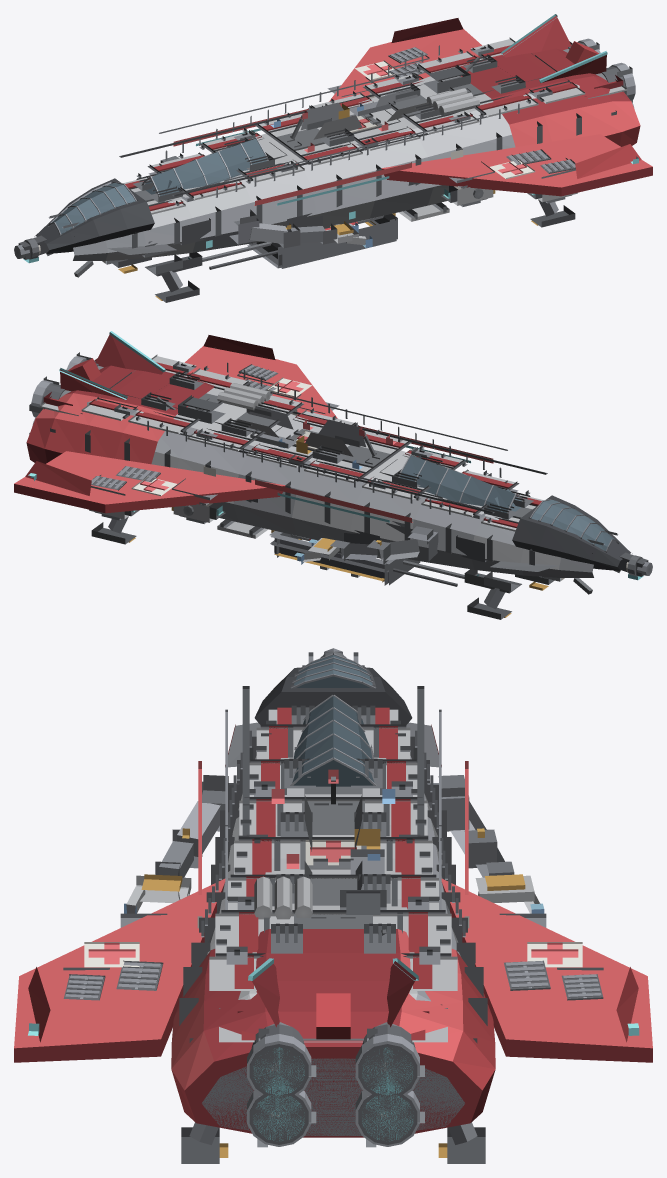
File: calico_evac.glb
3 renders of one model, top to bottom at view 1: azimuth 30°, elevation 25°; view 2: azimuth 150°, elevation 25°; view 3: azimuth 270°, elevation 25°, orthographic. The views are drawn at different scales.
Parts seen in each view (by area): view 1: hull_mid, greebles, hull_rear, wings_r, spine, hull_fwd, wings_l, decals, arms_r, bay, tail, skid_0 (+3 smaller); view 2: hull_mid, greebles, hull_rear, wings_l, spine, hull_fwd, wings_r, decals, arms_l, bay, tail, skid_1 (+3 smaller); view 3: hull_mid, hull_rear, wings_l, wings_r, greebles, engines, spine, arms_l, arms_r, hull_fwd, decals, thrusters (+4 smaller).
Part boxes in pixels (box(x1,y1,x2,y2)): hull_mid: box(73, 37, 627, 260); greebles: box(119, 44, 552, 276); hull_rear: box(460, 41, 640, 147); wings_r: box(381, 134, 652, 196); spine: box(48, 89, 430, 235); hull_fwd: box(14, 178, 176, 277); wings_l: box(329, 18, 481, 101); decals: box(173, 60, 535, 205); arms_r: box(229, 209, 372, 248); bay: box(247, 214, 397, 268); tail: box(501, 14, 607, 82); skid_0: box(148, 255, 199, 302); hull_mid: box(39, 354, 593, 577); greebles: box(114, 361, 547, 593); hull_rear: box(26, 358, 215, 464); wings_l: box(14, 451, 285, 513); spine: box(235, 406, 618, 552); hull_fwd: box(490, 495, 652, 594); wings_r: box(185, 335, 337, 418); decals: box(131, 377, 493, 522); arms_l: box(294, 526, 438, 564); bay: box(269, 531, 420, 585); tail: box(59, 331, 165, 399); skid_1: box(467, 572, 518, 619); hull_mid: box(179, 707, 487, 1135); hull_rear: box(171, 929, 495, 1137); wings_l: box(441, 878, 652, 1062); wings_r: box(14, 878, 225, 1062); greebles: box(201, 686, 465, 964); engines: box(247, 1022, 424, 1147); spine: box(290, 653, 376, 889); arms_l: box(427, 775, 544, 913); arms_r: box(124, 775, 239, 913); hull_fwd: box(225, 648, 441, 767); decals: box(84, 761, 582, 967); thrusters: box(253, 1047, 413, 1141).
Size of the model in its own units: 52.8 by 12.31 by 30.02.
